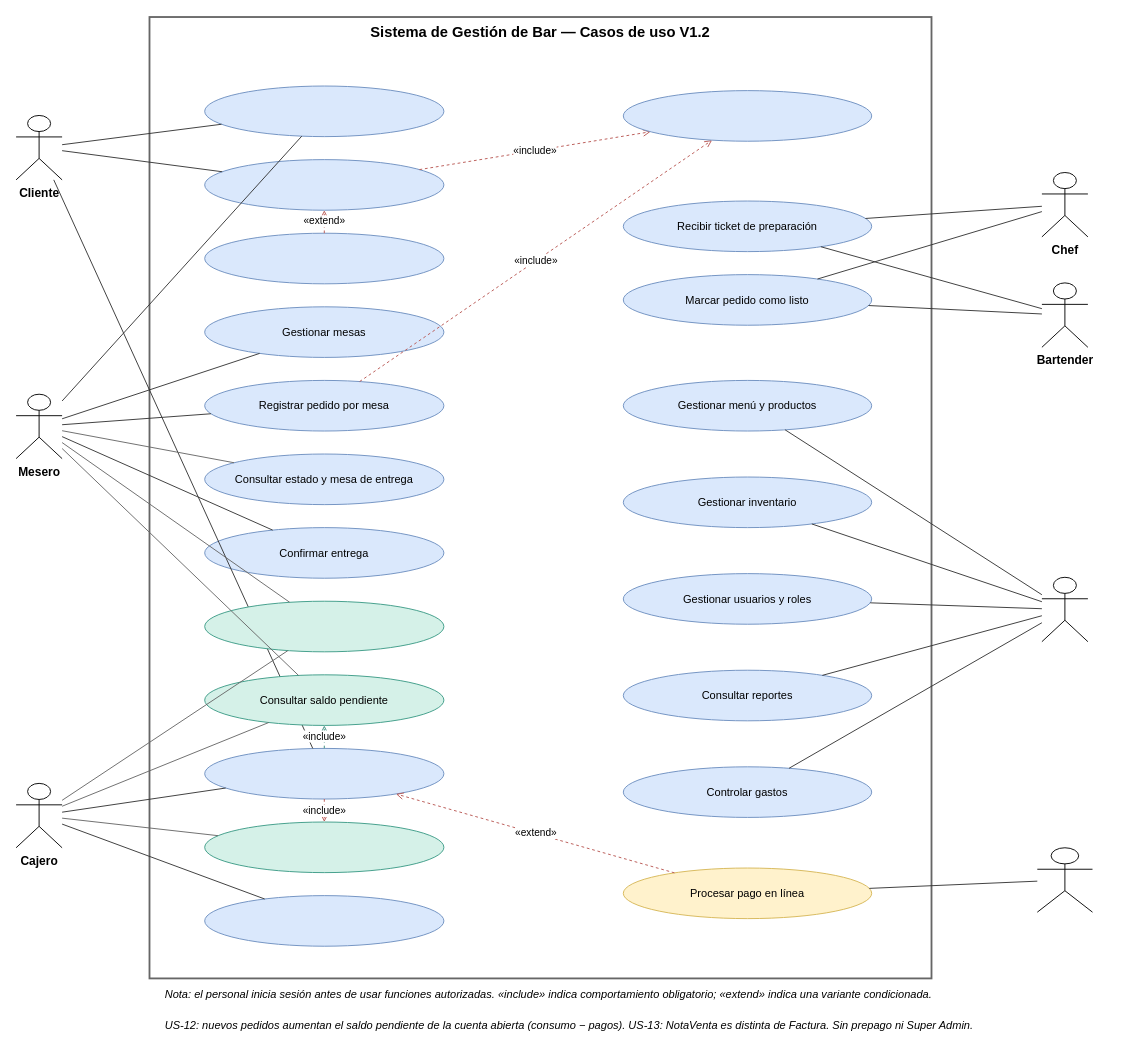
Image size: 1131x1061. Some labels were removed from this diagram. The centre of each missing label's shape, as x and y in pixels:
"Administrador" goes at (1064,609).
"Cobrar y cerrar cuenta" goes at (324,773).
"Consultar menú y combos" goes at (324,111).
"Emitir factura" goes at (324,920).
"Enviar ticket a cocina / bar" goes at (747,115).
"Generar nota de venta" goes at (324,847).
"Gestionar cuenta abierta" goes at (324,626).
"Pasarela de pago (sistema externo)" goes at (1064,879).
"Personalizar pedido (salsas)" goes at (324,258).
"Realizar pedido" goes at (324,184).
